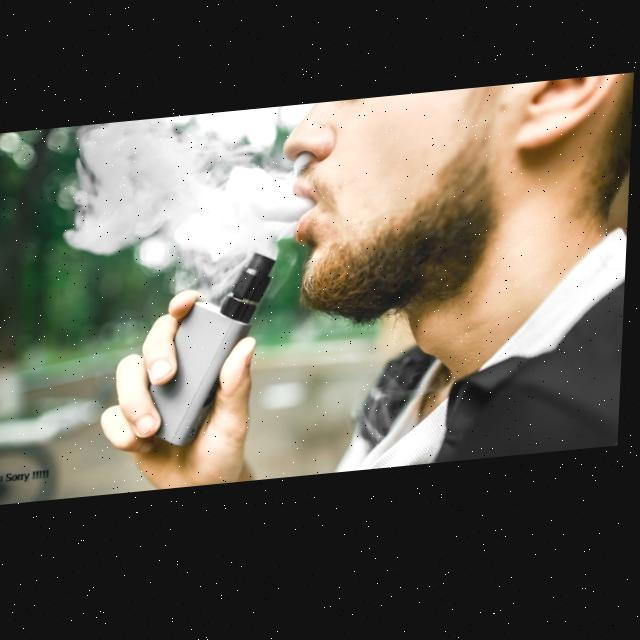vape: (151, 253, 281, 454)
